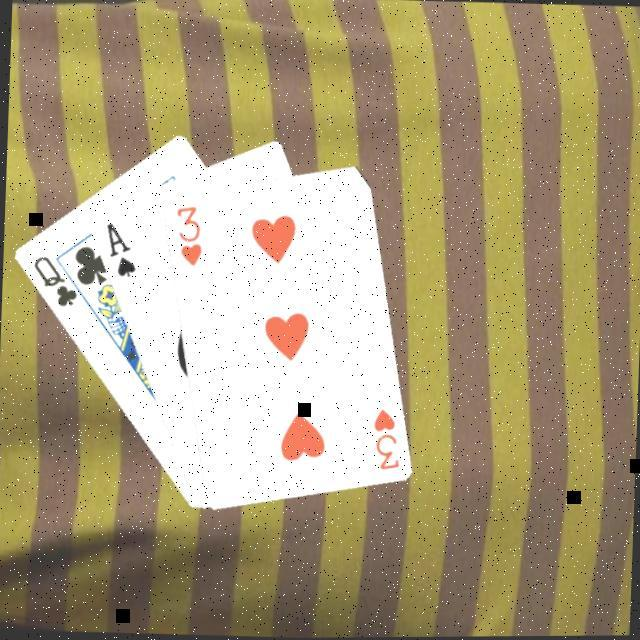3H: (368, 404, 404, 472), (172, 200, 206, 268)
AS: (102, 218, 140, 279)
QC: (28, 250, 82, 310)
